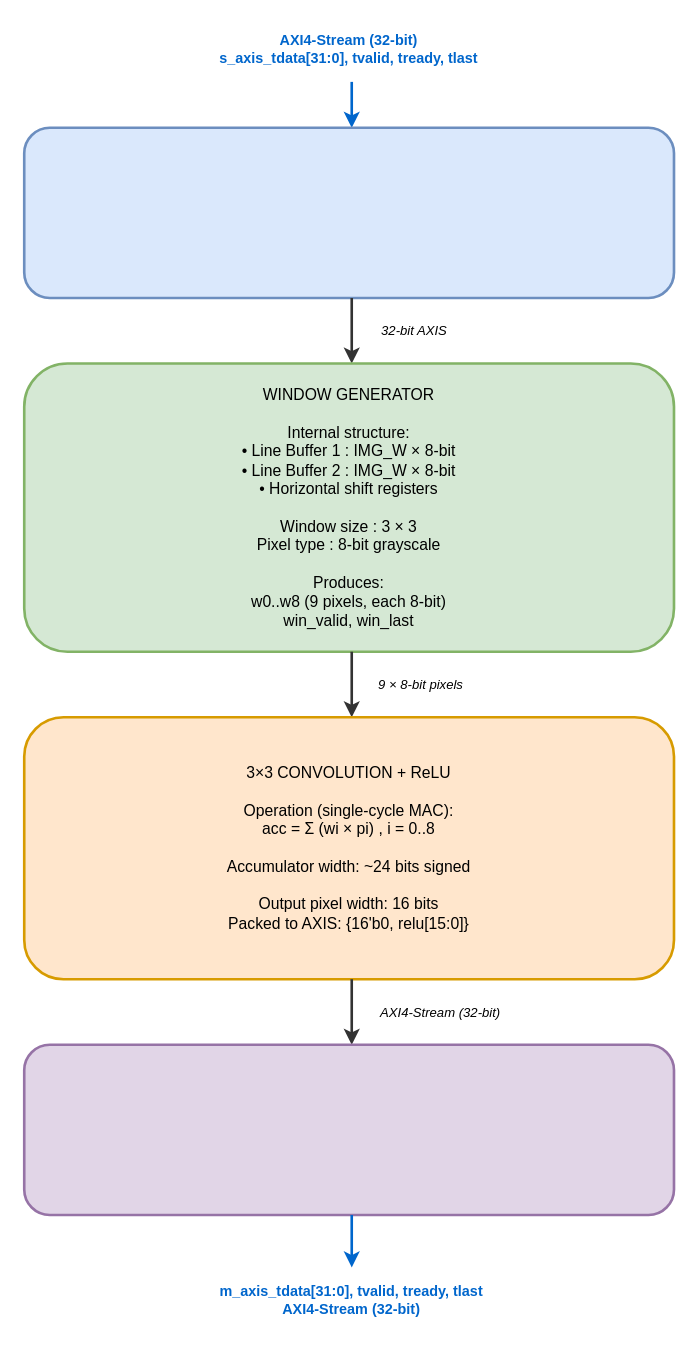
Some shapes in this 697 by 1348 pixel diagram are drawn without their labels. The box of each missing label's shape, as (x1, y1, x2, y2) in pixels:
INPUT AXIS FIFO Depth = 128 Width = 32 bits / entry: (22, 126, 675, 299)
OUTPUT AXIS FIFO Depth = 128 Width = 32 bits / entry: (22, 1043, 675, 1216)
